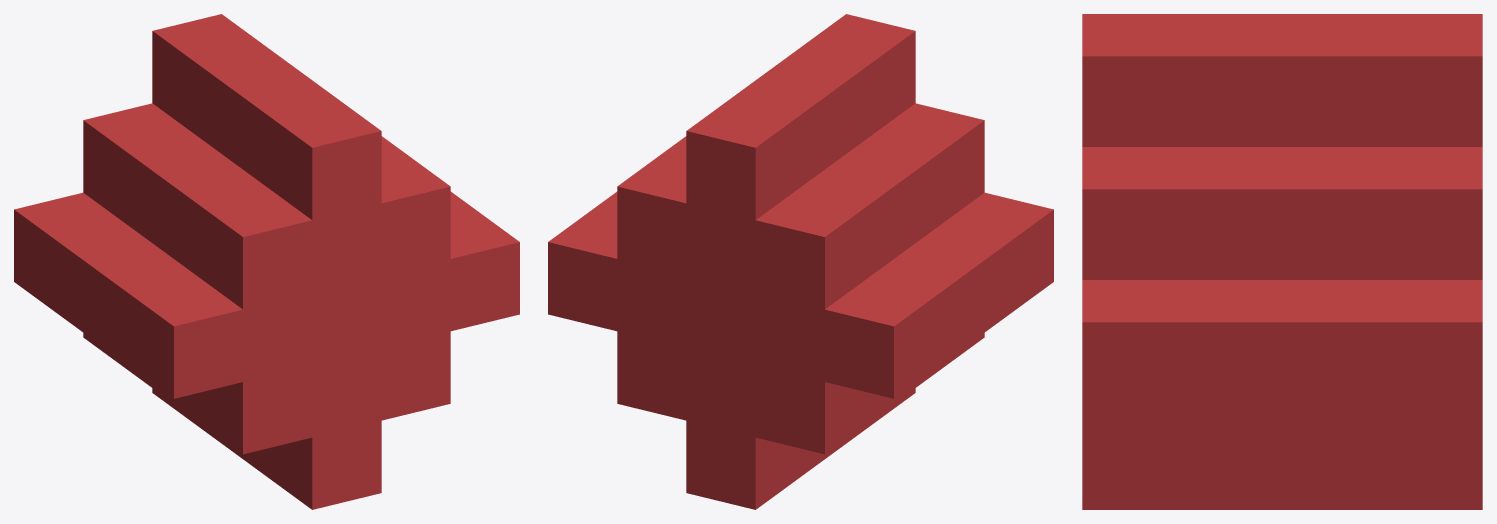
File: colour_gate_red_req.fbx
The picture shows the model from 3 angles, left to right: view 1: azimuth 30°, elevation 25°; view 2: azimuth 150°, elevation 25°; view 3: azimuth 270°, elevation 25°; orthographic projection. The views are drawn at different scales.
Parts seen in each view (by area): view 1: colour gate red req; view 2: colour gate red req; view 3: colour gate red req.
Boxes of the visible parts, x1,y1,x2,y2 form: colour gate red req: [14, 14, 519, 509]; colour gate red req: [548, 14, 1053, 509]; colour gate red req: [1082, 14, 1482, 509].
Bounding box in the file's own units: 0.5 × 0.5 × 0.4.
Materials: 1 (1 with a texture image).
